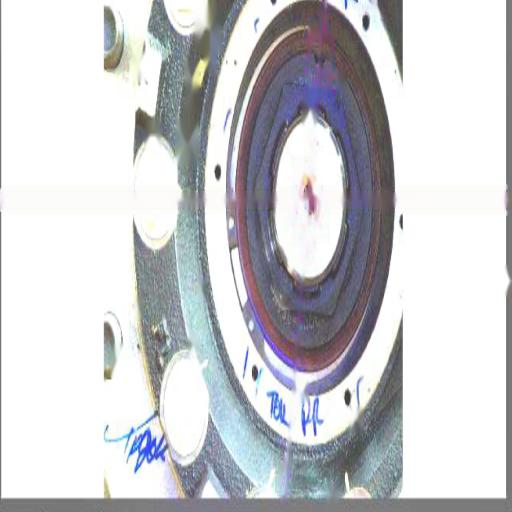center: (307, 186, 317, 222)
notch: (310, 45, 328, 73)
